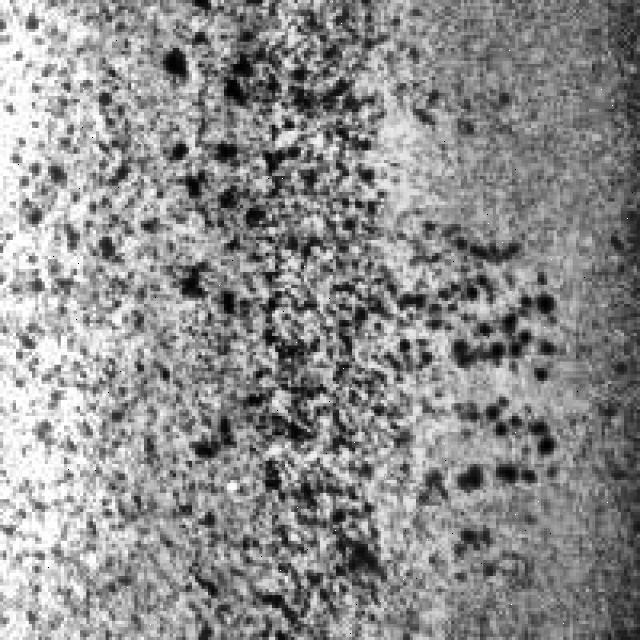Rolled_in_Scale: (16, 0, 563, 573)
